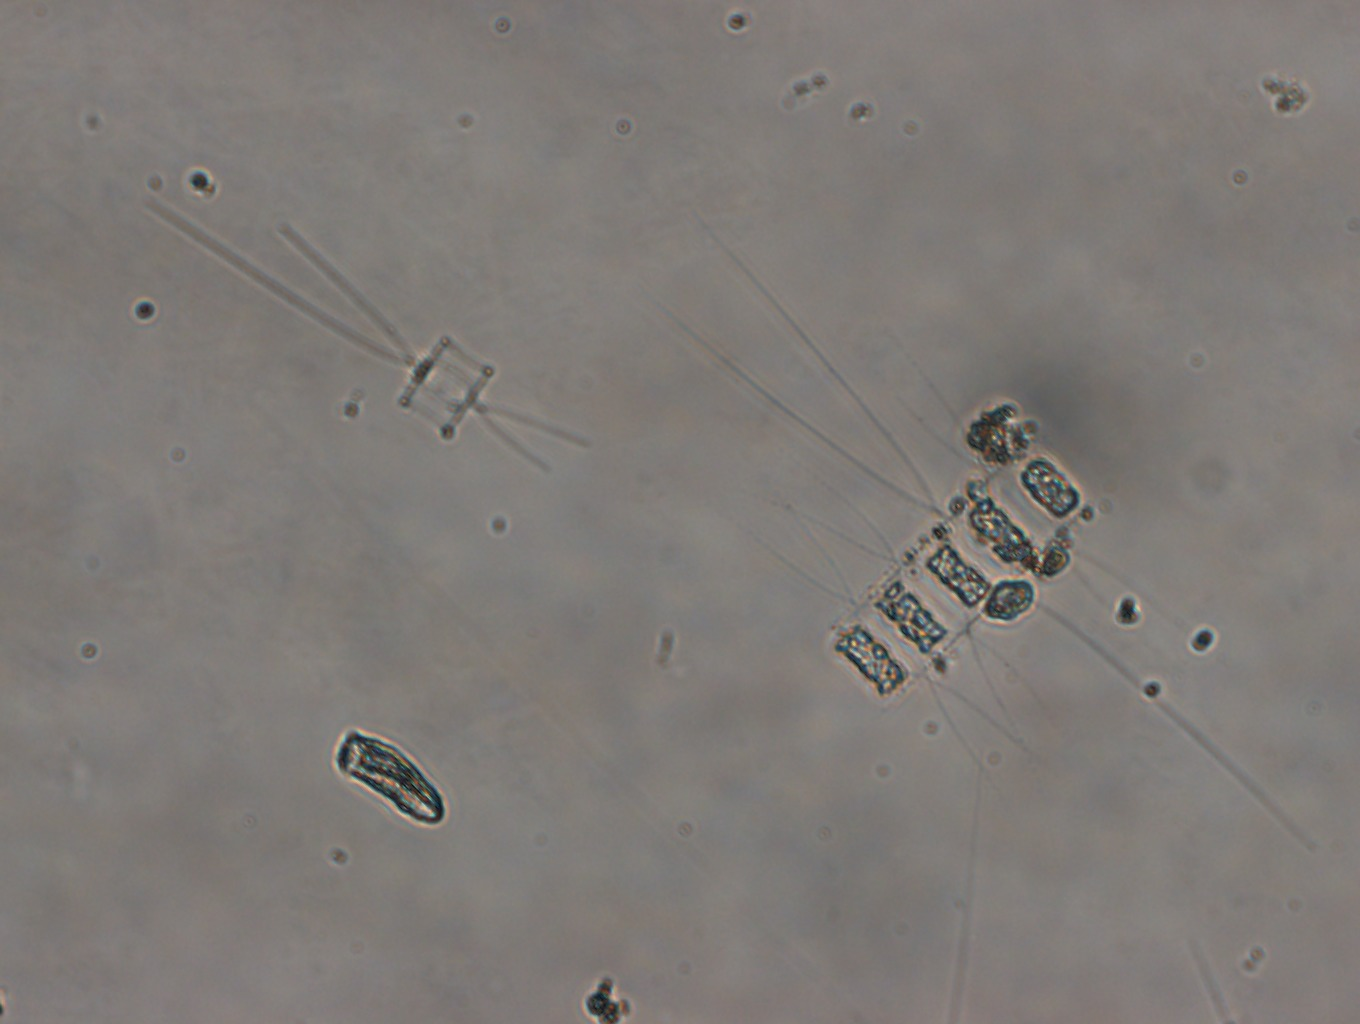chaetoceros: (632, 203, 1319, 861), (151, 198, 587, 472)
